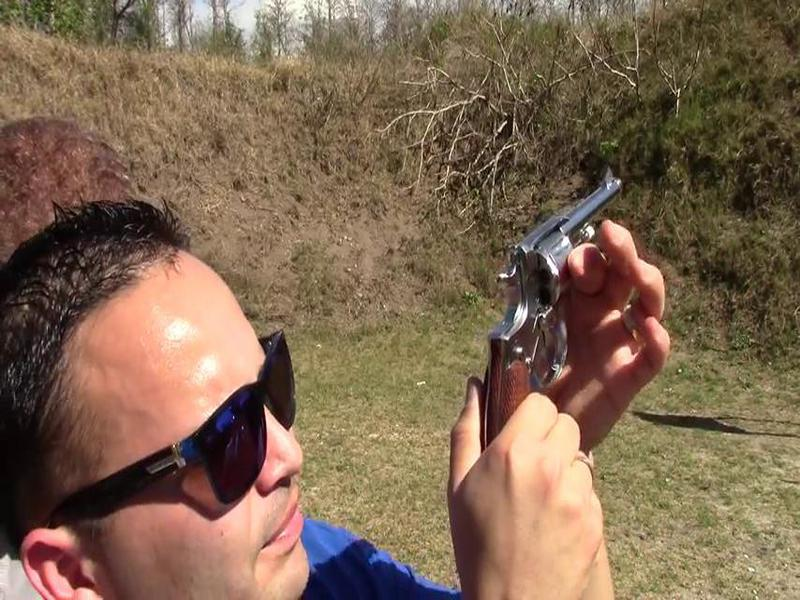Revolver: (464, 155, 641, 464)
